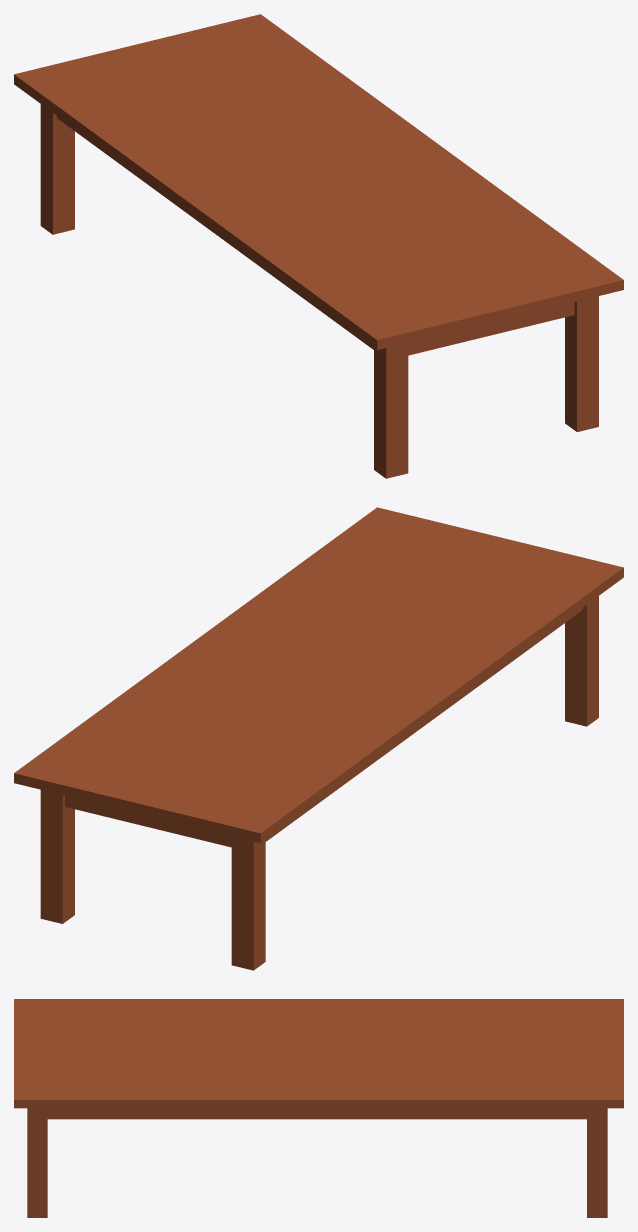
The model's file is Prop_Furniture_Fantasy_Dungeon_Table_Wooden_Large_01.FBX.
The picture shows the model from 3 angles, top to bottom: view 1: azimuth 30°, elevation 25°; view 2: azimuth 150°, elevation 25°; view 3: azimuth 270°, elevation 25°; orthographic projection. The views are drawn at different scales.
Parts seen in each view (by area): view 1: Prop_Furniture_Fantasy_Dungeon_Table_Wooden_Large_01; view 2: Prop_Furniture_Fantasy_Dungeon_Table_Wooden_Large_01; view 3: Prop_Furniture_Fantasy_Dungeon_Table_Wooden_Large_01.
Boxes of the visible parts, x1,y1,x2,y2 form: Prop_Furniture_Fantasy_Dungeon_Table_Wooden_Large_01: (14, 14, 623, 478); Prop_Furniture_Fantasy_Dungeon_Table_Wooden_Large_01: (14, 507, 623, 970); Prop_Furniture_Fantasy_Dungeon_Table_Wooden_Large_01: (14, 999, 623, 1217).
Bounding box in the file's own units: 1524 × 876 × 3885.
